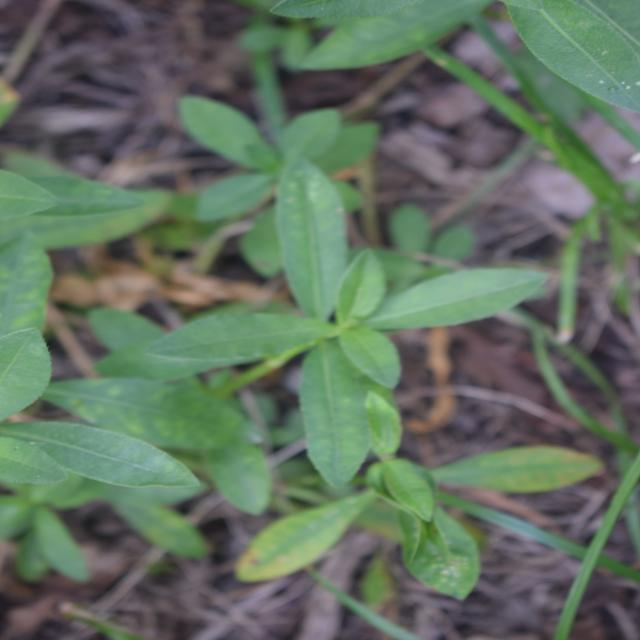Alligatorweed: (152, 143, 433, 512)
